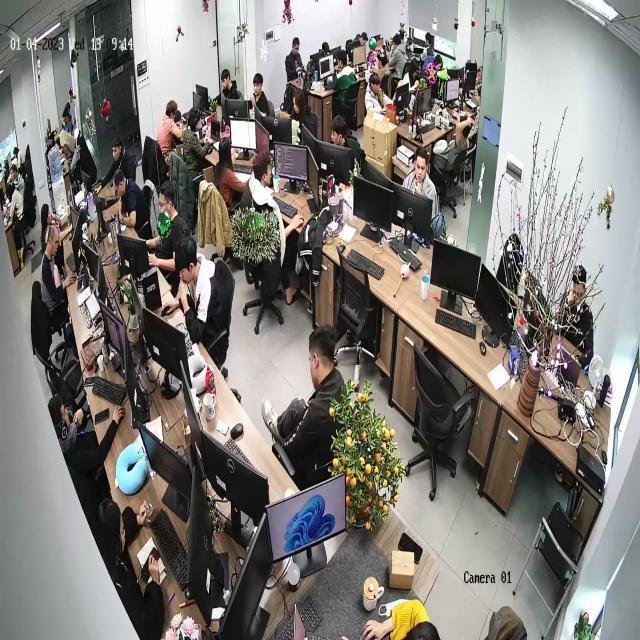person: (261, 324, 346, 487), (84, 495, 170, 640), (240, 150, 305, 306), (160, 239, 226, 353), (45, 390, 124, 476), (144, 181, 191, 280), (559, 259, 597, 375), (41, 222, 76, 330), (362, 597, 440, 639), (91, 131, 132, 198), (403, 147, 439, 220), (213, 134, 247, 207), (157, 98, 186, 176), (111, 167, 147, 229), (182, 108, 213, 172), (364, 66, 396, 123), (9, 173, 27, 266), (332, 49, 360, 103), (249, 72, 275, 128), (287, 90, 319, 133), (37, 202, 69, 243), (327, 111, 359, 150), (208, 66, 242, 102), (284, 35, 307, 86), (388, 33, 411, 80), (418, 30, 436, 68)
